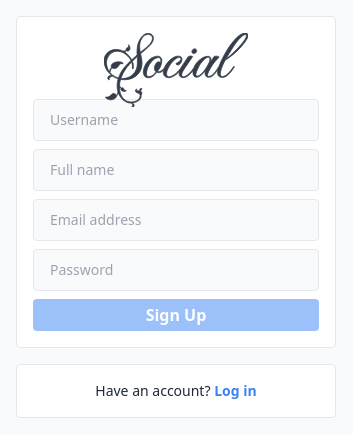
Test: given correct inputs, button is enabled
The image size is (353, 435).
Type "username" into the field named "enter your username" at (176, 120), box [33,99,319,141]
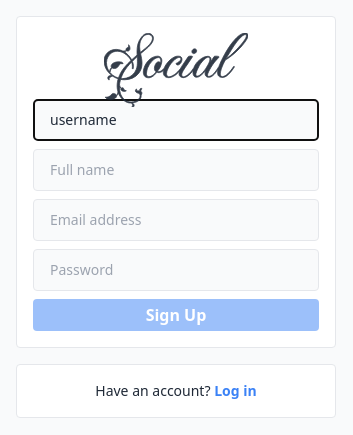
Type "full name" into the field named "enter your full name" at (176, 170), box [33,149,319,191]
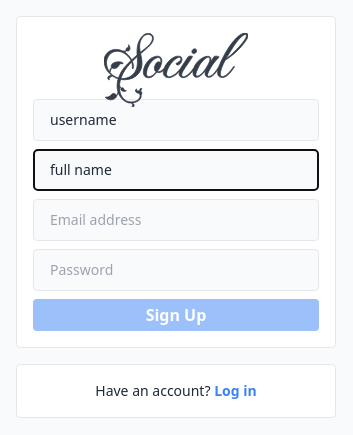
Type "email@email.com" into the field named "enter your email address" at (176, 220), box [33,199,319,241]
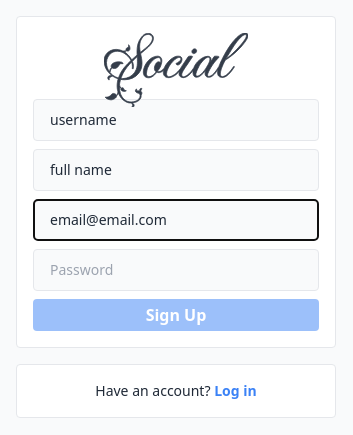
Type "password" into the password field named "enter your password" at (176, 270), box [33,249,319,291]
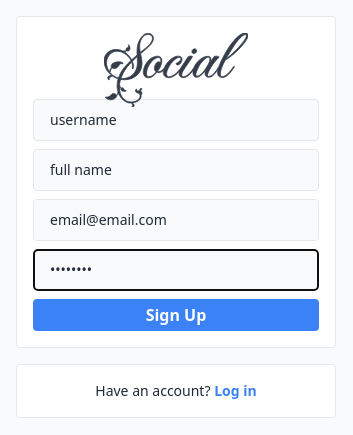
Expected: the button "Sign Up" is enabled, [33,299,319,331]
